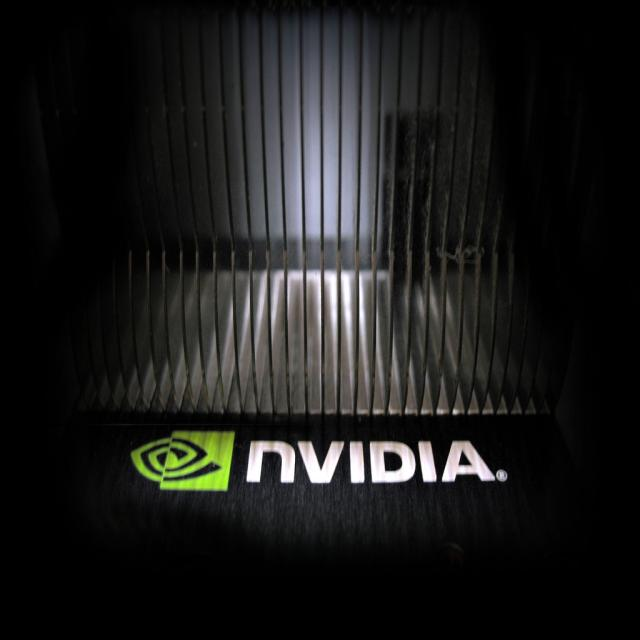nvidia: (131, 431, 237, 493)
